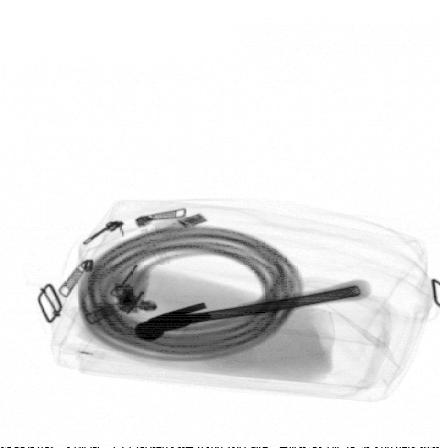Hammer: (133, 280, 373, 343)
